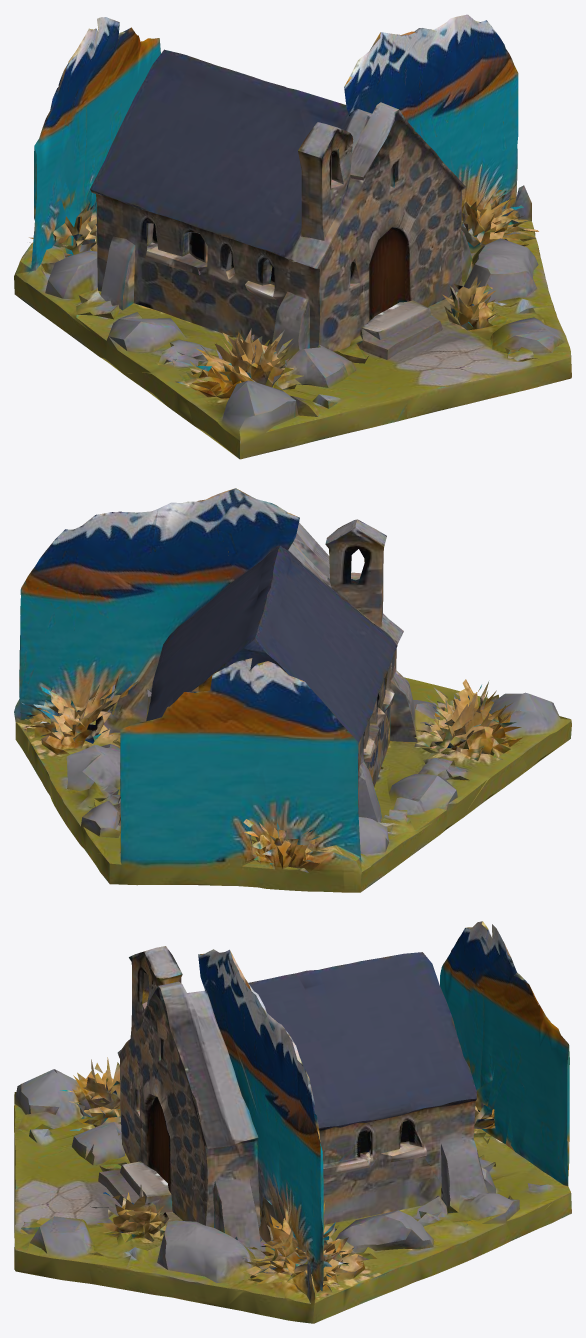
File: good-shepherd-tekapo.glb
3 views of the same model, one above another, from view 1: azimuth 30°, elevation 25°; view 2: azimuth 150°, elevation 25°; view 3: azimuth 270°, elevation 25° (orthographic). The views are drawn at different scales.
Visible parts, largest first — view 1: logan-textured.obj; view 2: logan-textured.obj; view 3: logan-textured.obj.
Boxes of the visible parts, bbox=[...] form: logan-textured.obj: bbox=[14, 14, 571, 459]; logan-textured.obj: bbox=[14, 488, 571, 892]; logan-textured.obj: bbox=[14, 921, 571, 1323].
Bounding box in the file's own units: 0.9057 × 0.5589 × 1.
Materials: 1 (1 with a texture image).
